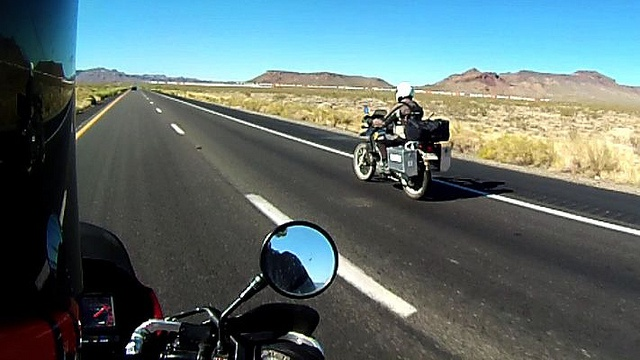non-vehicle: (0, 220, 338, 359), (351, 103, 441, 199)
